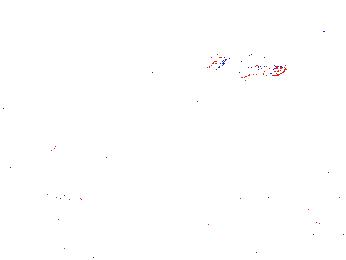glassfish: (37, 127, 137, 187)
red belly glassfish: (312, 25, 336, 46)
redtail glassfish: (208, 48, 285, 79)
